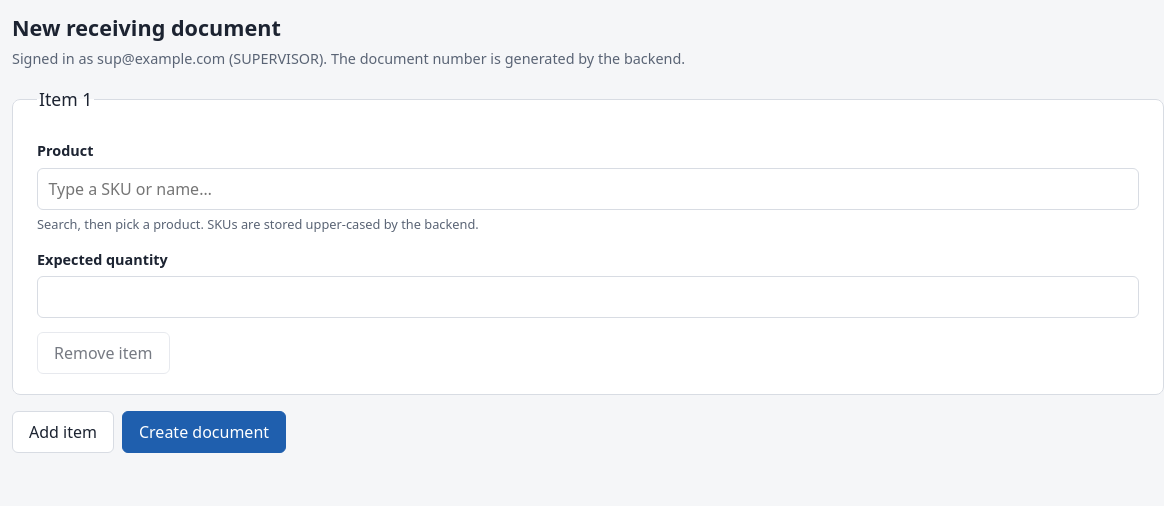
Test: business screens › makes a newly created product searchable on the New document screen
Type "WIDGET-9" into the search field labelled "Product".
click(588, 189); type("WIDGET-9")  # box [37,168,1139,210]
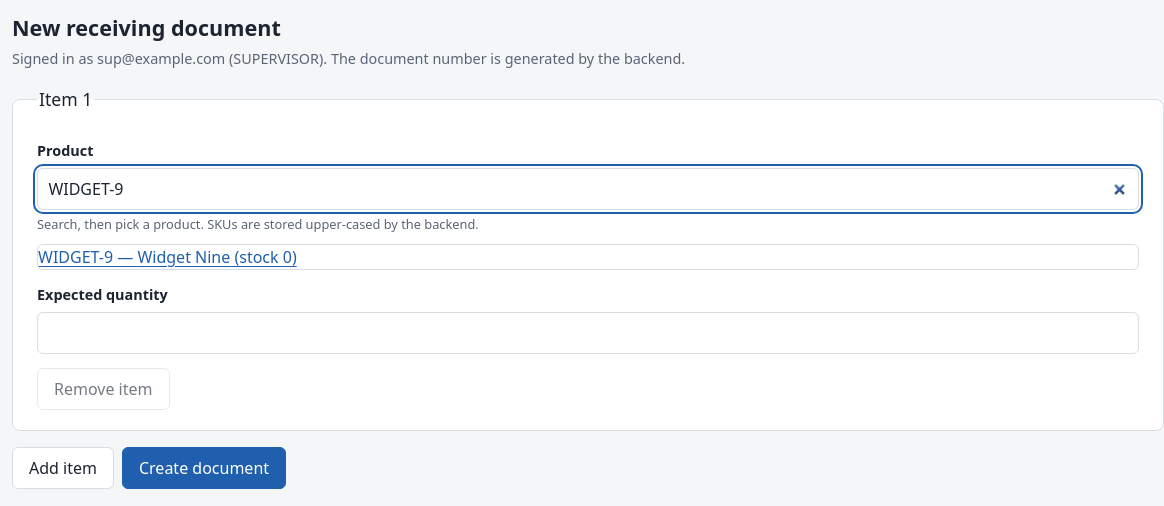
Check: the option shows "WIDGET-9 — Widget Nine", box [38,245,297,269]
